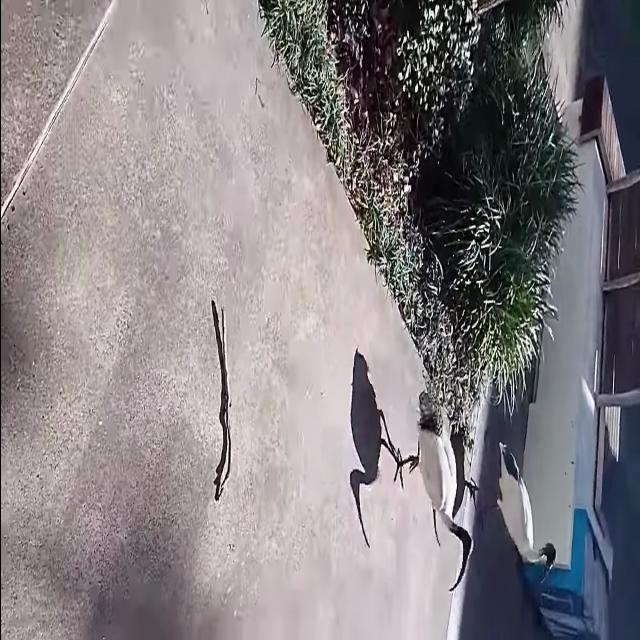Birds-Ibis: (384, 389, 478, 599), (475, 437, 560, 593)
